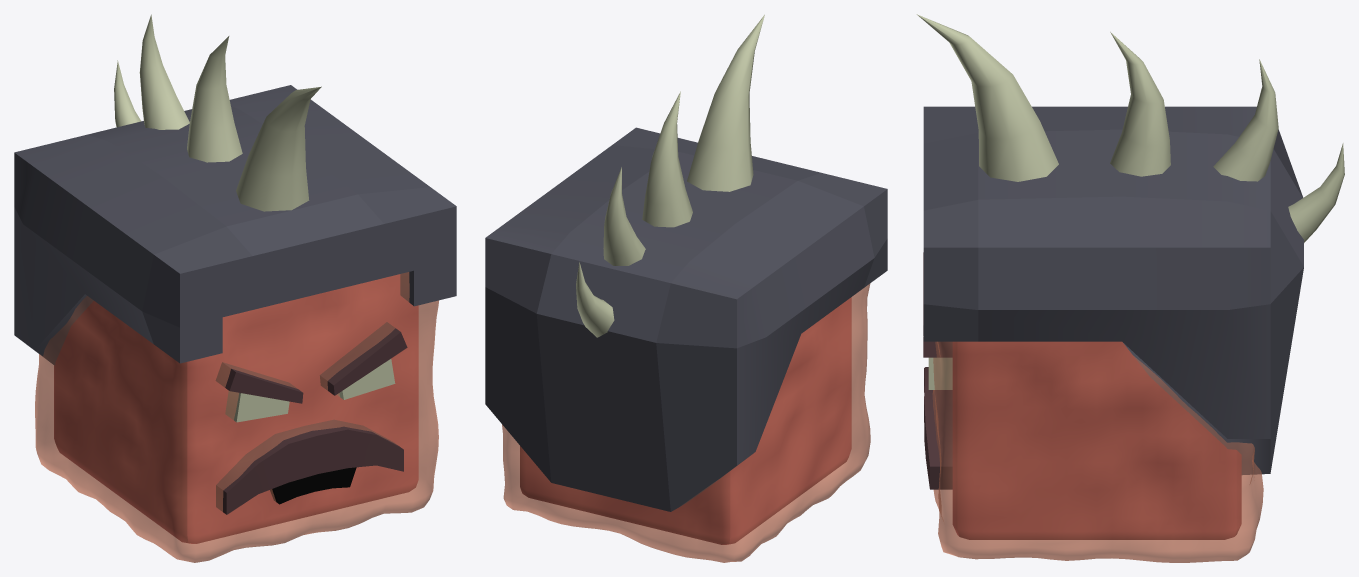
Rendered from Killer.fbx.
3 renders of one model, left to right at view 1: azimuth 30°, elevation 25°; view 2: azimuth 150°, elevation 25°; view 3: azimuth 270°, elevation 25°, orthographic. The views are drawn at different scales.
Visible parts, largest first — view 1: Helmet, Jello, Cubo, Stache, Spike_1, Brows, Spike_2, Spike_4, Eyes, Mouth, Spike_3; view 2: Helmet, Jello, Cubo, Spike_1, Spike_2, Spike_4, Spike_3; view 3: Helmet, Jello, Cubo, Spike_1, Spike_2, Spike_4, Stache, Spike_3, Eyes, Brows.
Part boxes in pixels (x1,y1,x2,y2): Helmet: [14, 85, 456, 365]; Jello: [35, 272, 438, 562]; Cubo: [54, 274, 418, 543]; Stache: [216, 419, 403, 514]; Spike_1: [236, 86, 321, 211]; Brows: [215, 322, 407, 403]; Spike_2: [187, 36, 242, 162]; Spike_4: [139, 14, 189, 129]; Eyes: [225, 359, 395, 422]; Mouth: [270, 467, 356, 504]; Spike_3: [114, 60, 140, 127]; Helmet: [485, 127, 887, 511]; Jello: [502, 283, 870, 562]; Cubo: [520, 297, 851, 544]; Spike_1: [687, 14, 764, 191]; Spike_2: [642, 91, 692, 227]; Spike_4: [603, 167, 645, 265]; Spike_3: [576, 262, 614, 337]; Helmet: [923, 106, 1303, 474]; Jello: [932, 341, 1263, 562]; Cubo: [952, 341, 1241, 539]; Spike_1: [916, 14, 1058, 181]; Spike_2: [1110, 32, 1170, 176]; Spike_4: [1213, 59, 1278, 181]; Stache: [924, 367, 952, 489]; Spike_3: [1288, 143, 1344, 242]; Eyes: [928, 357, 952, 389]; Brows: [923, 252, 952, 357].
Size of the model in its own units: 9.41 by 14.06 by 11.14.
